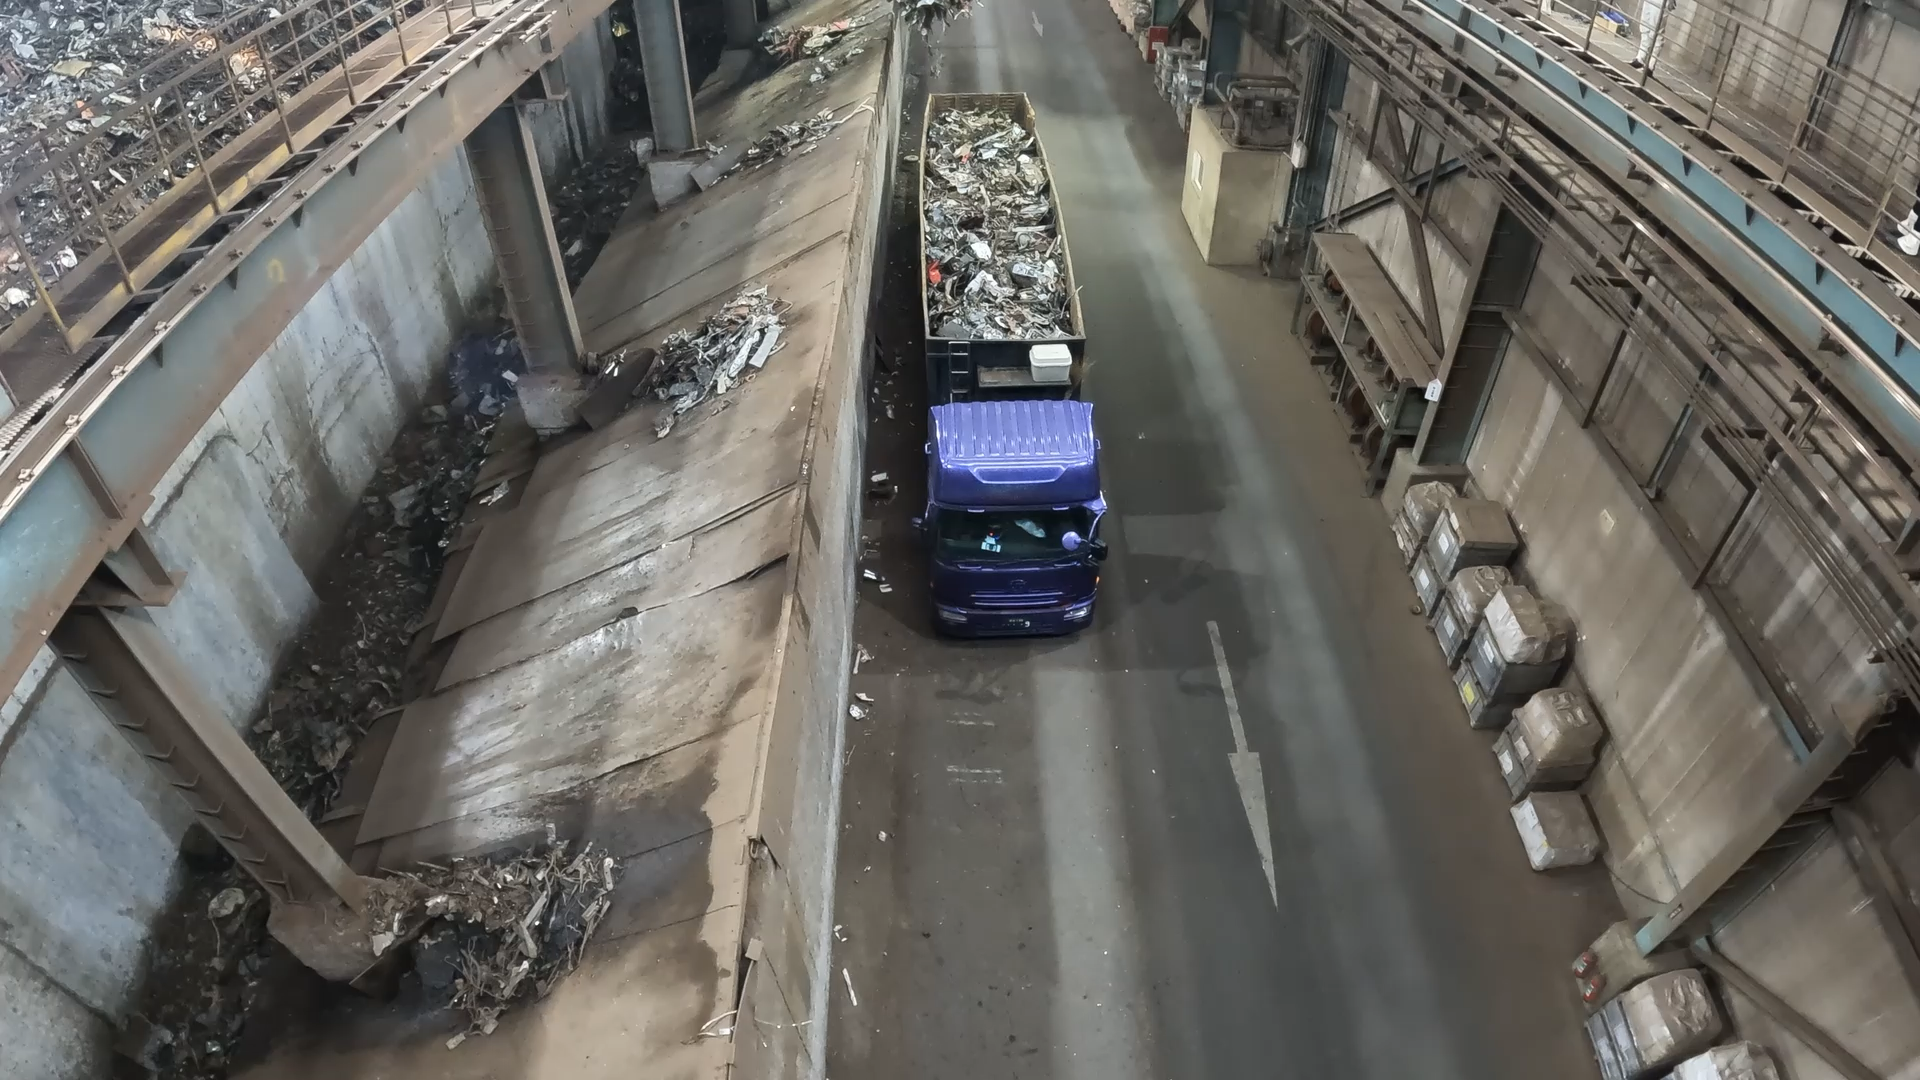truck: (920, 91, 1084, 339)
